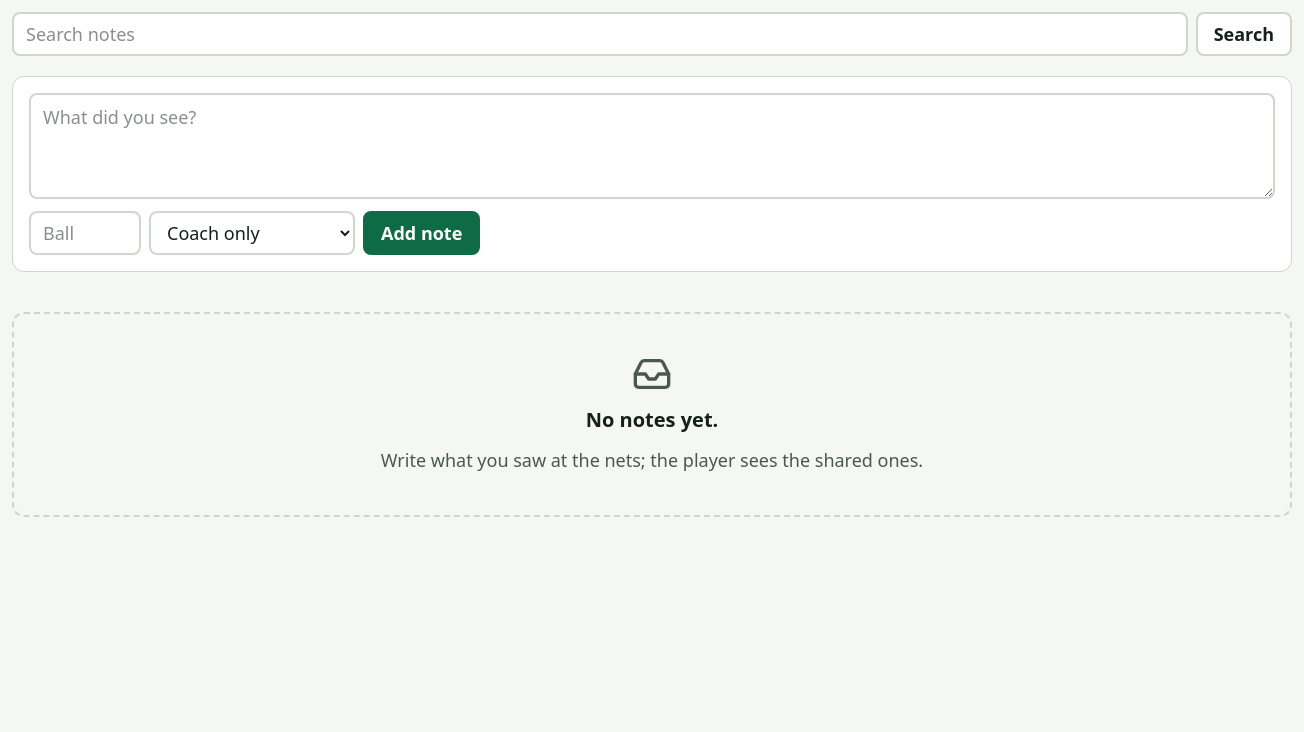
Test case: NotesPanel › creates a session note with ball pin and visibility, then clears the form
This screenshot has width=1304, height=732.
Check: the element with test id "notes-empty" is shown, box 12,312 -> 1292,517
Type "Nice shape." into the text box named "Note body" at (652, 146), box 29,93 -> 1275,199
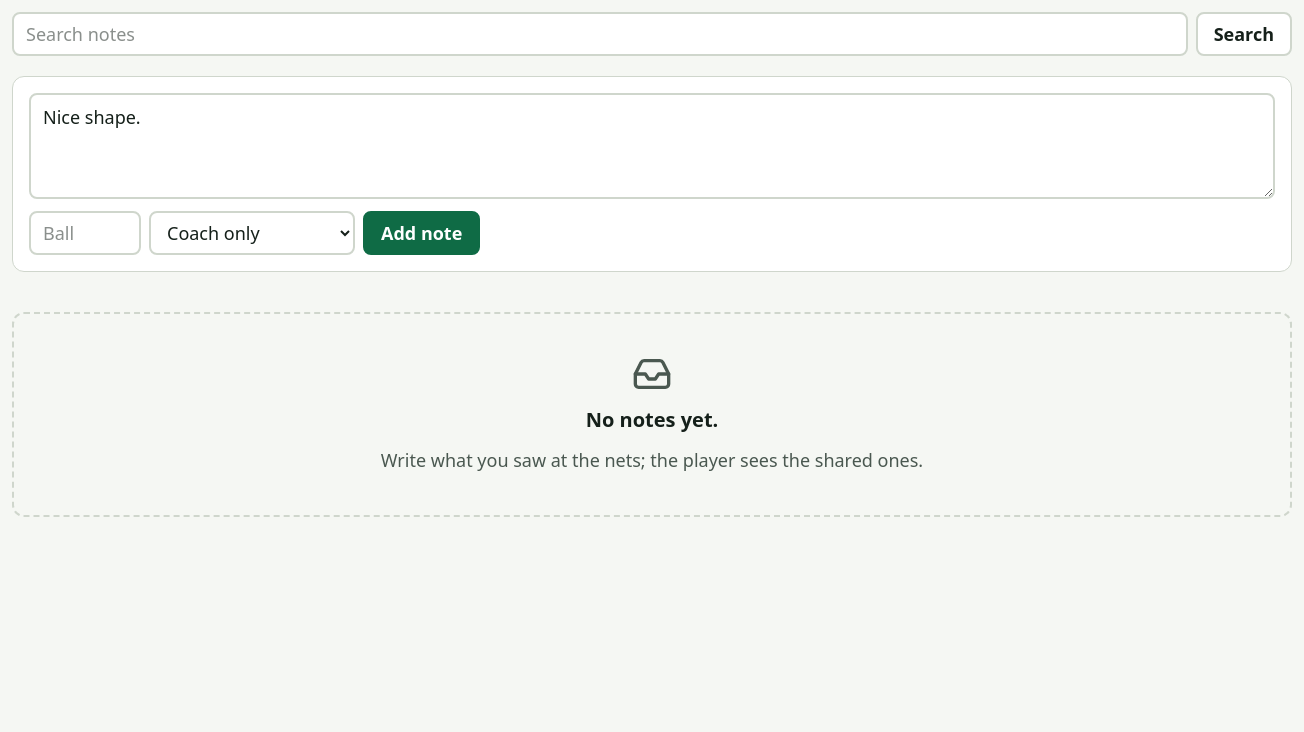
Type "7" into the number field named "Ball number" at (85, 233), box 29,211 -> 141,255
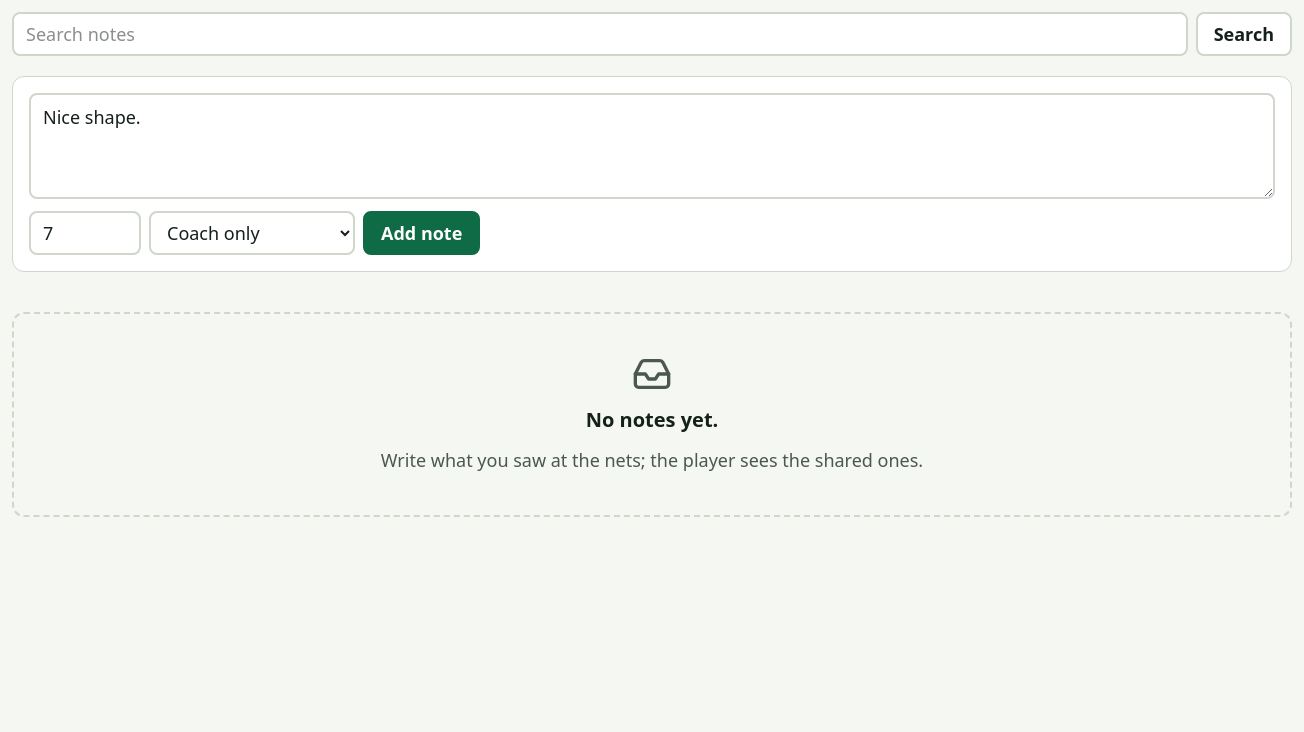
Select "Shared with player" in the dropdown named "Visibility" at (252, 233), box 149,211 -> 355,255
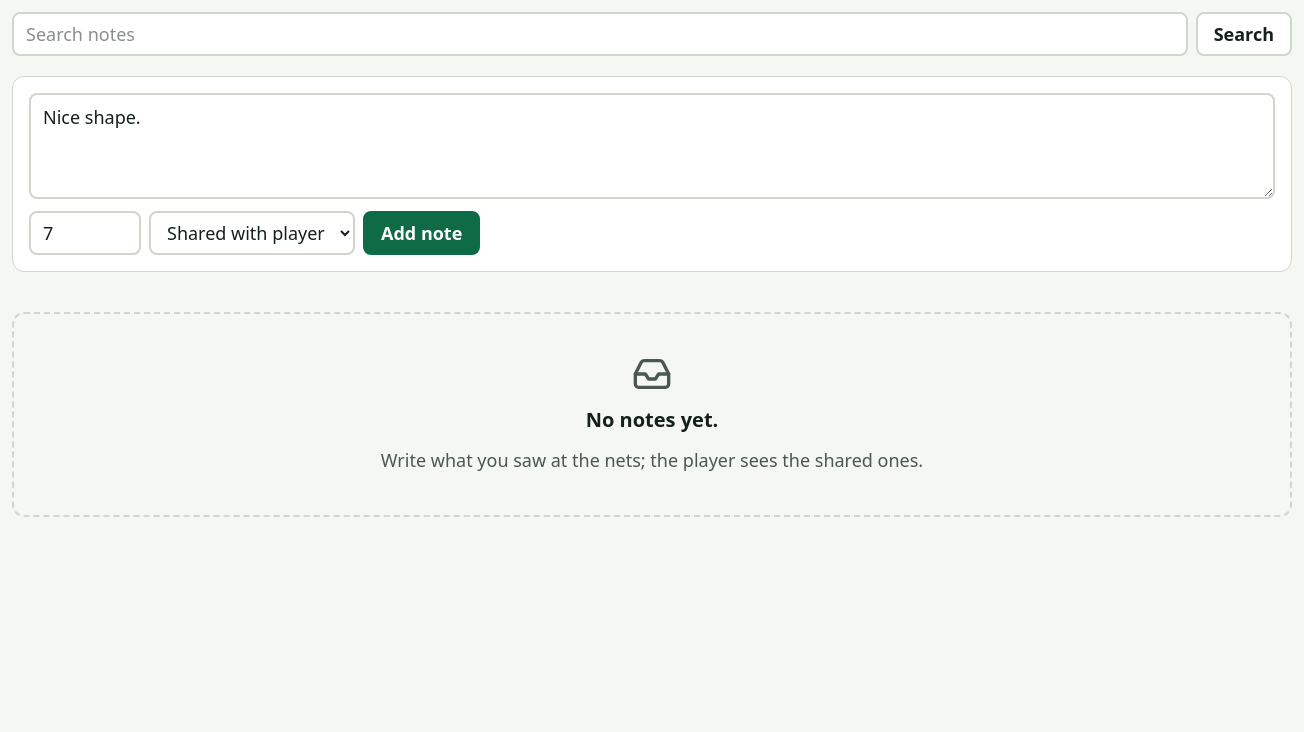
Submit the form "Add note", box 12,76 -> 1292,272
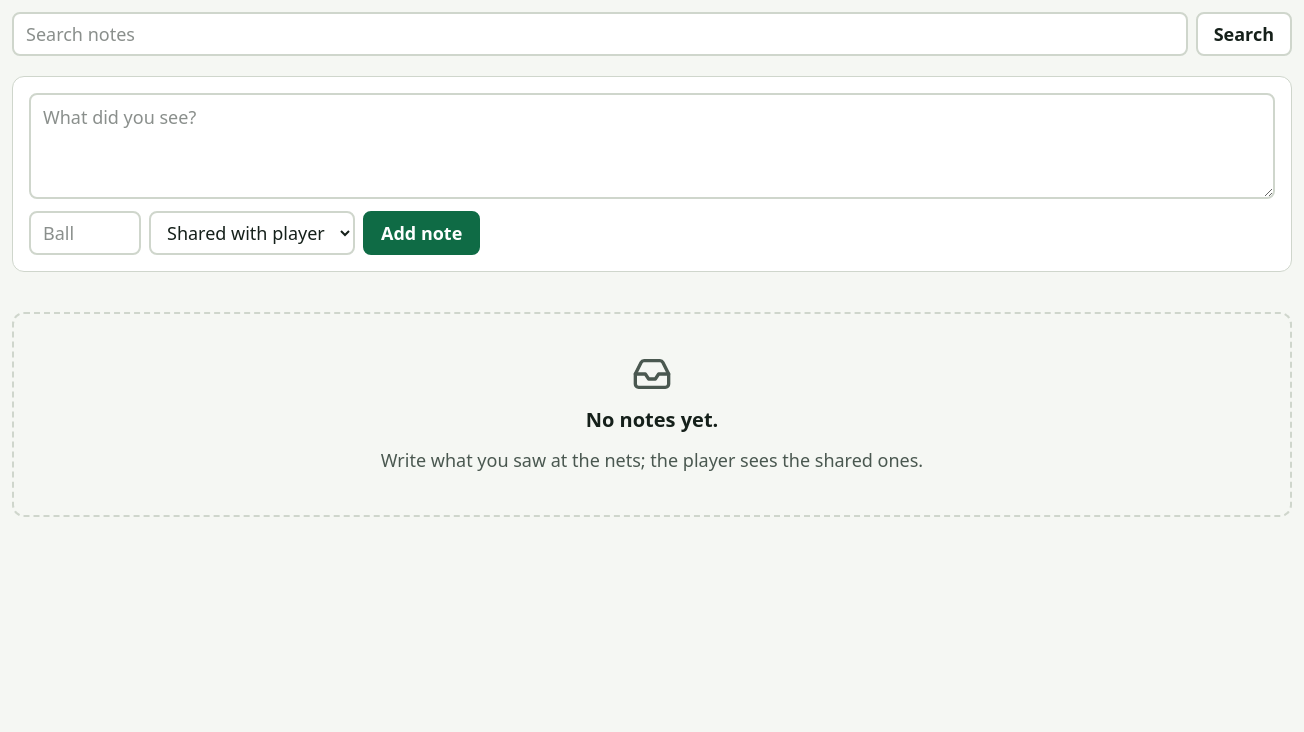
Check: the text box named "Note body" is empty, box 29,93 -> 1275,199
Check: the number field named "Ball number" is not empty, box 29,211 -> 141,255
